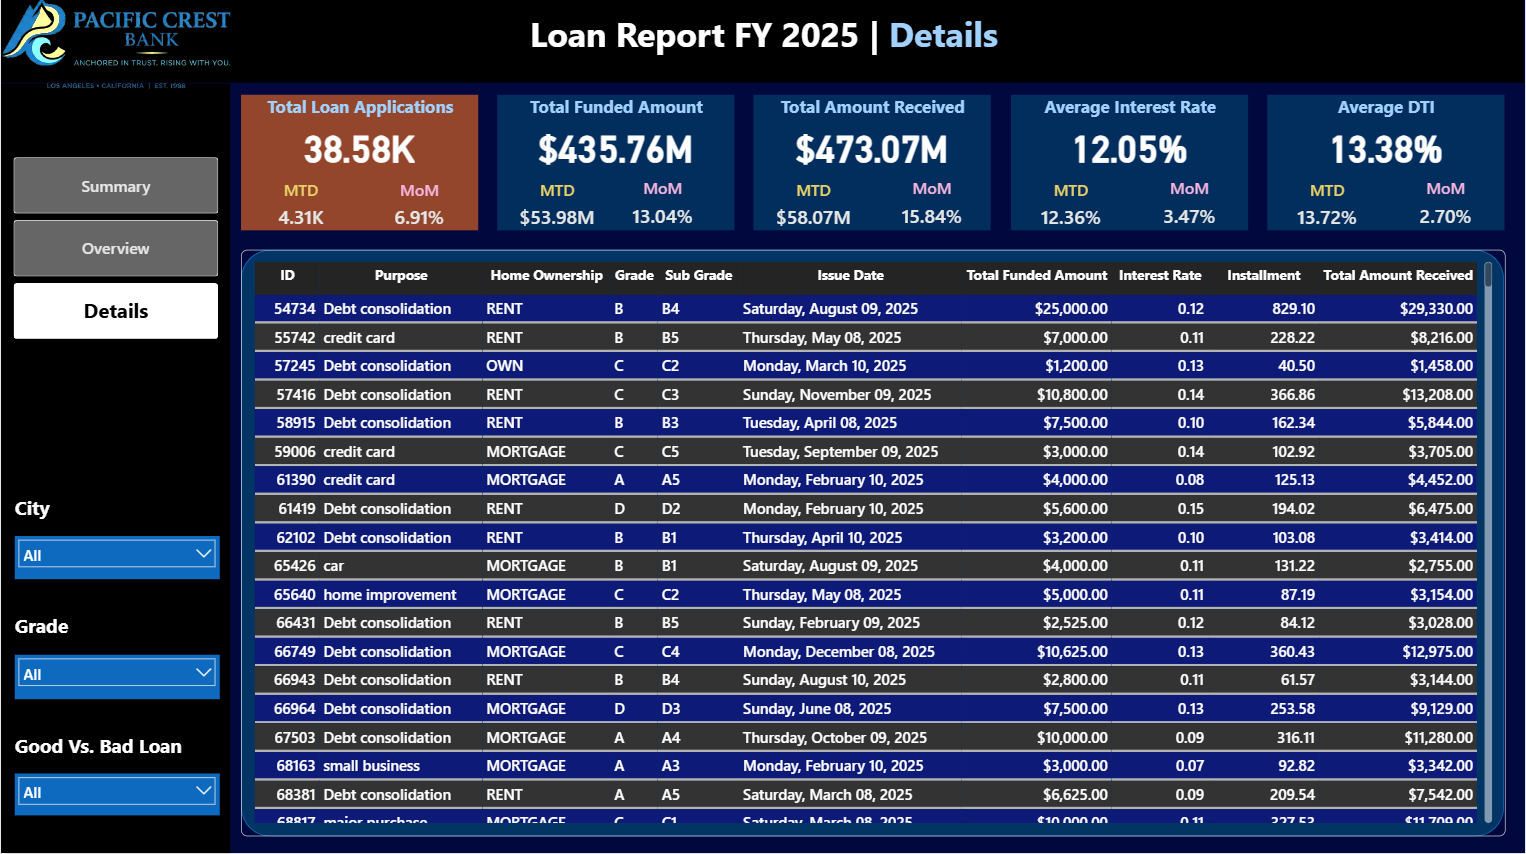

The page's visual inventory and layout, read from the dashboard file:
{"tool":"powerbi","page":{"name":"Details","canvas":[1920,1080],"ordinal":2},"visuals":[{"type":"shape","box":[0,110.1,289.2,970.1],"z":0},{"type":"shape","box":[302.8,124.2,298.9,170.8],"z":0,"group":"g1"},{"type":"shape","box":[625.8,124.2,298.9,170.8],"z":0,"group":"g2"},{"type":"shape","box":[949.2,124.2,298.9,170.8],"z":0,"group":"g3"},{"type":"shape","box":[1272.7,124.2,298.9,170.8],"z":0,"group":"g4"},{"type":"shape","box":[1596.2,124.2,298.9,170.8],"z":0,"group":"g5"},{"type":"shape","box":[0,0,1919.7,109.3],"z":1000},{"type":"cardVisual","fields":{"Data":["financial_loan_Year_2025.Total Loan Applications"]},"box":[302.8,149.4,298.9,79.6],"z":1000,"group":"g1"},{"type":"cardVisual","fields":{"Data":["financial_loan_Year_2025.Total Funded Amount"]},"box":[625.8,149.4,298.9,79.6],"z":1000,"group":"g2"},{"type":"cardVisual","fields":{"Data":["financial_loan_Year_2025.Total Amount Received"]},"box":[949.2,149.4,298.9,79.6],"z":1000,"group":"g3"},{"type":"cardVisual","fields":{"Data":["financial_loan_Year_2025.Average Interest Rate"]},"box":[1272.7,149.4,298.9,79.6],"z":1000,"group":"g4"},{"type":"cardVisual","fields":{"Data":["financial_loan_Year_2025.Averate DTI"]},"box":[1596.2,149.4,298.9,79.6],"z":1000,"group":"g5"},{"type":"group","id":"g1","title":"Group 1","box":[302.2,124.2,300.4,170.8],"z":2000},{"type":"textbox","box":[302.2,125,300.4,48.5],"z":2000,"group":"g1"},{"type":"textbox","box":[625.2,125,300.4,48.5],"z":2000,"group":"g2"},{"type":"textbox","box":[948.6,125,300.4,48.5],"z":2000,"group":"g3"},{"type":"textbox","box":[1272.1,125,300.4,48.5],"z":2000,"group":"g4"},{"type":"textbox","box":[1595.6,125,300.4,48.5],"z":2000,"group":"g5"},{"type":"group","id":"g2","title":"Group 1","box":[625.2,124.2,300.4,170.8],"z":3000},{"type":"cardVisual","title":"MTD","fields":{"Data":["financial_loan_Year_2025.MTD Loan Application"]},"box":[302.8,229,151.4,66],"z":3000,"group":"g1"},{"type":"cardVisual","title":"MTD","fields":{"Data":["financial_loan_Year_2025.MTD Funded Amount"]},"box":[625.8,229,151.4,66],"z":3000,"group":"g2"},{"type":"cardVisual","title":"MTD","fields":{"Data":["financial_loan_Year_2025.MTD Received Amount"]},"box":[949.2,229,151.4,66],"z":3000,"group":"g3"},{"type":"cardVisual","title":"MTD","fields":{"Data":["financial_loan_Year_2025.MTD Average Interest Rate"]},"box":[1272.7,229,151.4,66],"z":3000,"group":"g4"},{"type":"cardVisual","title":"MTD","fields":{"Data":["financial_loan_Year_2025.MTD Average DTI"]},"box":[1596.2,229,151.4,66],"z":3000,"group":"g5"},{"type":"group","id":"g3","title":"Group 1","box":[948.6,124.2,300.9,170.8],"z":4000},{"type":"cardVisual","title":"MoM","fields":{"Data":["financial_loan_Year_2025.MoM Funded Amount"]},"box":[776.2,228.6,114.5,66],"z":4000,"group":"g2"},{"type":"cardVisual","title":"MoM","fields":{"Data":["financial_loan_Year_2025.MoM Received Amount"]},"box":[1100.1,228.6,147.5,66],"z":4000,"group":"g3"},{"type":"cardVisual","title":"MoM","fields":{"Data":["financial_loan_Year_2025.MoM Average Interest Rate"]},"box":[1423.6,228.6,147.5,66],"z":4000,"group":"g4"},{"type":"cardVisual","title":"MoM","fields":{"Data":["financial_loan_Year_2025.MoM Average DTI"]},"box":[1747.1,228.6,147.5,66],"z":4000,"group":"g5"},{"type":"cardVisual","title":"MoM","fields":{"Data":["financial_loan_Year_2025.MoM Loan Application"]},"box":[454.2,229,147.5,66],"z":4000,"group":"g1"},{"type":"group","id":"g4","title":"Group 1","box":[1272.1,124.2,300.9,170.8],"z":5000},{"type":"group","id":"g5","title":"Group 1","box":[1595.6,124.2,300.9,170.8],"z":6000},{"type":"textbox","box":[590.1,17.5,741.5,73.8],"z":7000},{"type":"image","box":[0,0,289.2,124.2],"z":8000},{"type":"slicer","fields":{"Values":["financial_loan_Year_2025.address_city"]},"box":[17.5,680.8,258.2,54.4],"z":9000},{"type":"textbox","box":[17.5,628.9,258.2,52.4],"z":10000},{"type":"slicer","fields":{"Values":["financial_loan_Year_2025.grade"]},"box":[17.5,829.5,258.2,56.3],"z":11000},{"type":"textbox","box":[17.5,776.4,258.2,52.4],"z":12000},{"type":"textbox","box":[17.5,927.7,258.2,52.4],"z":13000},{"type":"slicer","fields":{"Values":["financial_loan_Year_2025.Good Loan Vs Bad Loan"]},"box":[17.5,980.2,258.2,52.4],"z":14000},{"type":"shape","box":[302.8,320.3,1591.7,739.6],"z":15000},{"type":"tableEx","fields":{"Values":["financial_loan_Year_2025.id","financial_loan_Year_2025.purpose","financial_loan_Year_2025.home_ownership","financial_loan_Year_2025.grade","financial_loan_Year_2025.sub_grade","financial_loan_Year_2025.issue_date","financial_loan_Year_2025.Total Funded Amount","financial_loan_Year_2025.int_rate","Sum(financial_loan_Year_2025.installment)","financial_loan_Year_2025.Total Amount Received"]},"box":[302.8,320.3,1593.6,739.6],"z":16000},{"type":"pageNavigator","box":[15.5,203.8,258.2,231],"z":17000}]}

Visuals, with their boxes in screenshot pixels (x1, y1, x2, y2), scaled from the page's 1920x1080 canvas onto the 1526x854 screenshot:
shape: 0 87 230 853
shape: 241 98 478 233
shape: 497 98 735 233
shape: 754 98 992 233
shape: 1012 98 1249 233
shape: 1269 98 1506 233
shape: 0 0 1525 86
cardVisual - financial_loan_Year_2025.Total Loan Applications: 241 118 478 181
cardVisual - financial_loan_Year_2025.Total Funded Amount: 497 118 735 181
cardVisual - financial_loan_Year_2025.Total Amount Received: 754 118 992 181
cardVisual - financial_loan_Year_2025.Average Interest Rate: 1012 118 1249 181
cardVisual - financial_loan_Year_2025.Averate DTI: 1269 118 1506 181
"Group 1" group: 240 98 479 233
textbox: 240 99 479 137
textbox: 497 99 736 137
textbox: 754 99 993 137
textbox: 1011 99 1250 137
textbox: 1268 99 1507 137
"Group 1" group: 497 98 736 233
"MTD" cardVisual: 241 181 361 233
"MTD" cardVisual: 497 181 618 233
"MTD" cardVisual: 754 181 875 233
"MTD" cardVisual: 1012 181 1132 233
"MTD" cardVisual: 1269 181 1389 233
"Group 1" group: 754 98 993 233
"MoM" cardVisual: 617 181 708 233
"MoM" cardVisual: 874 181 992 233
"MoM" cardVisual: 1131 181 1249 233
"MoM" cardVisual: 1389 181 1506 233
"MoM" cardVisual: 361 181 478 233
"Group 1" group: 1011 98 1250 233
"Group 1" group: 1268 98 1507 233
textbox: 469 14 1058 72
image: 0 0 230 98
slicer - financial_loan_Year_2025.address_city: 14 538 219 581
textbox: 14 497 219 539
slicer - financial_loan_Year_2025.grade: 14 656 219 700
textbox: 14 614 219 655
textbox: 14 734 219 775
slicer - financial_loan_Year_2025.Good Loan Vs Bad Loan: 14 775 219 817
shape: 241 253 1506 838
tableEx - financial_loan_Year_2025.id x financial_loan_Year_2025.purpose: 241 253 1507 838
pageNavigator: 12 161 218 344
